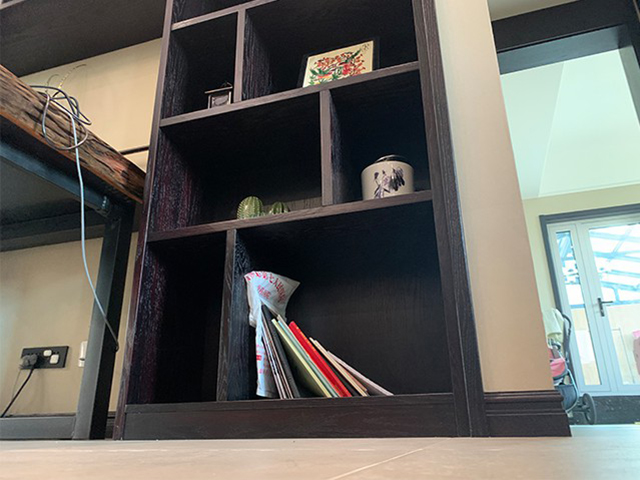cabinet: (111, 1, 486, 441)
table: (1, 62, 145, 441)
wire: (33, 77, 102, 305), (1, 351, 47, 417)
